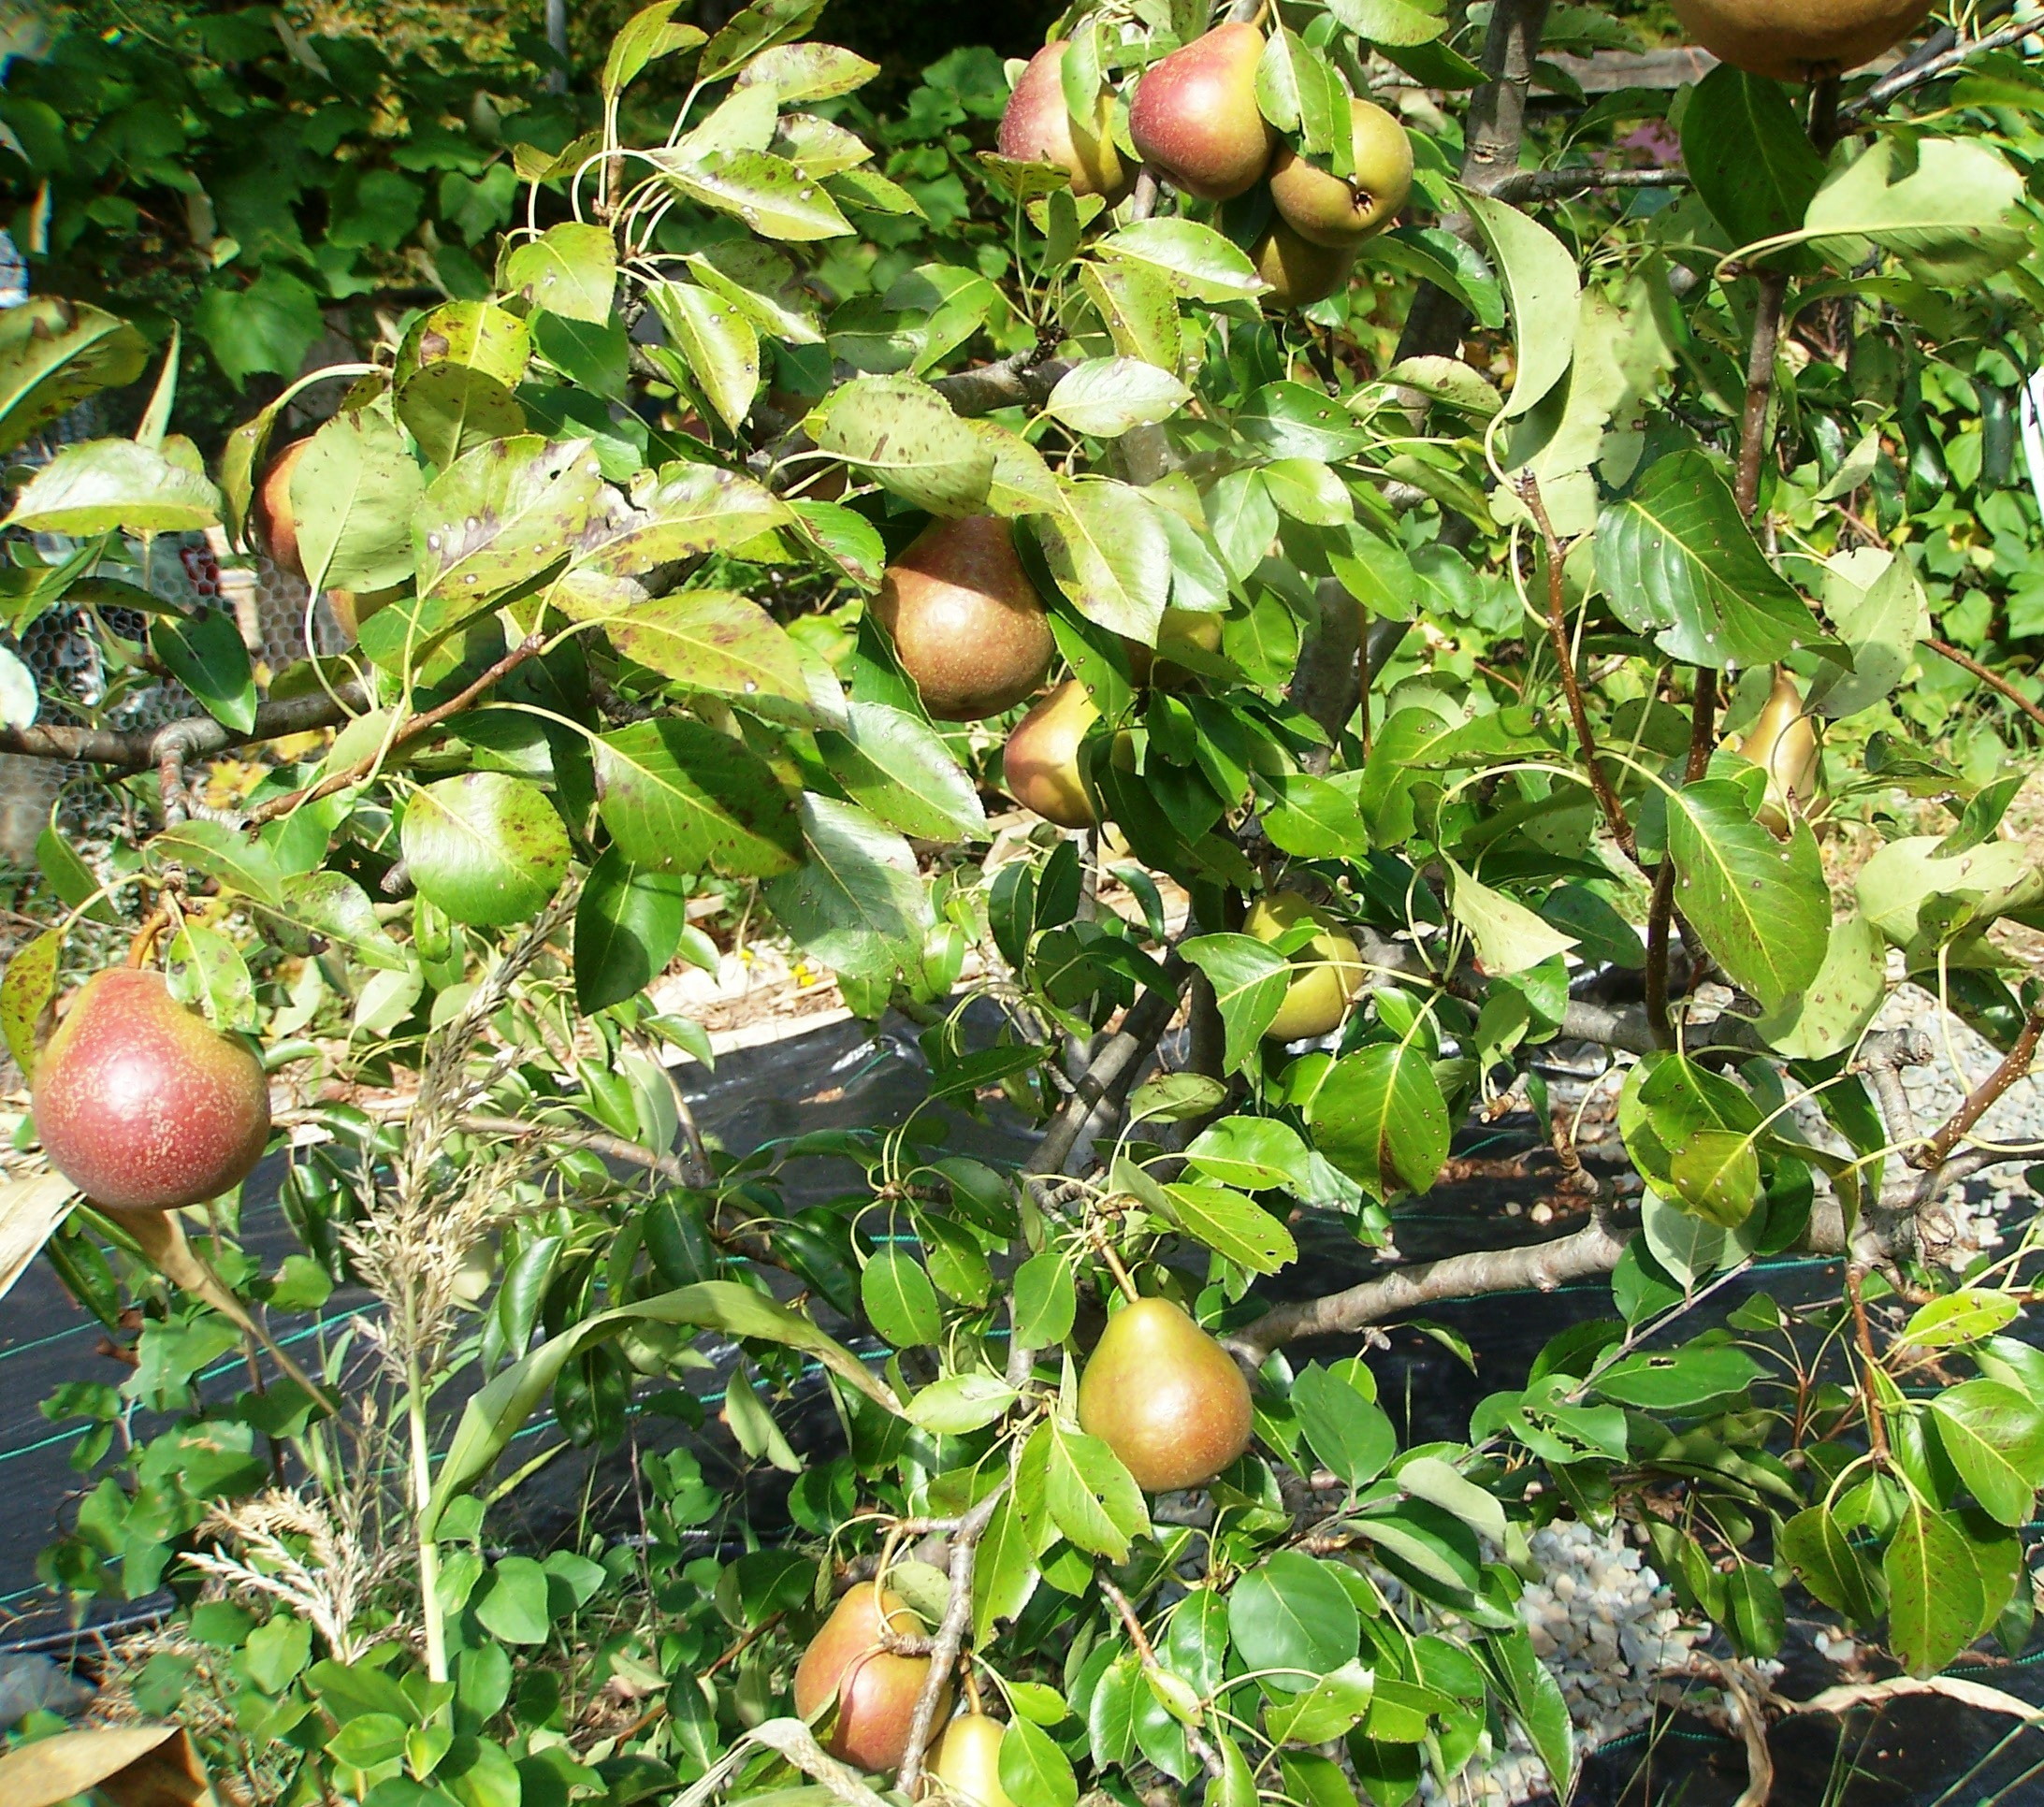pear: (26, 949, 274, 1210), (872, 497, 1060, 715), (1071, 1296, 1264, 1498), (794, 1566, 956, 1769), (1127, 17, 1275, 201), (1700, 670, 1840, 851), (998, 659, 1128, 830), (1224, 883, 1360, 1047), (1268, 94, 1416, 244), (996, 38, 1128, 187)
